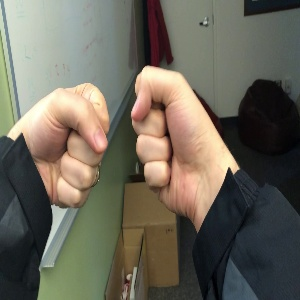hand: (131, 63, 238, 212), (26, 82, 110, 209)
